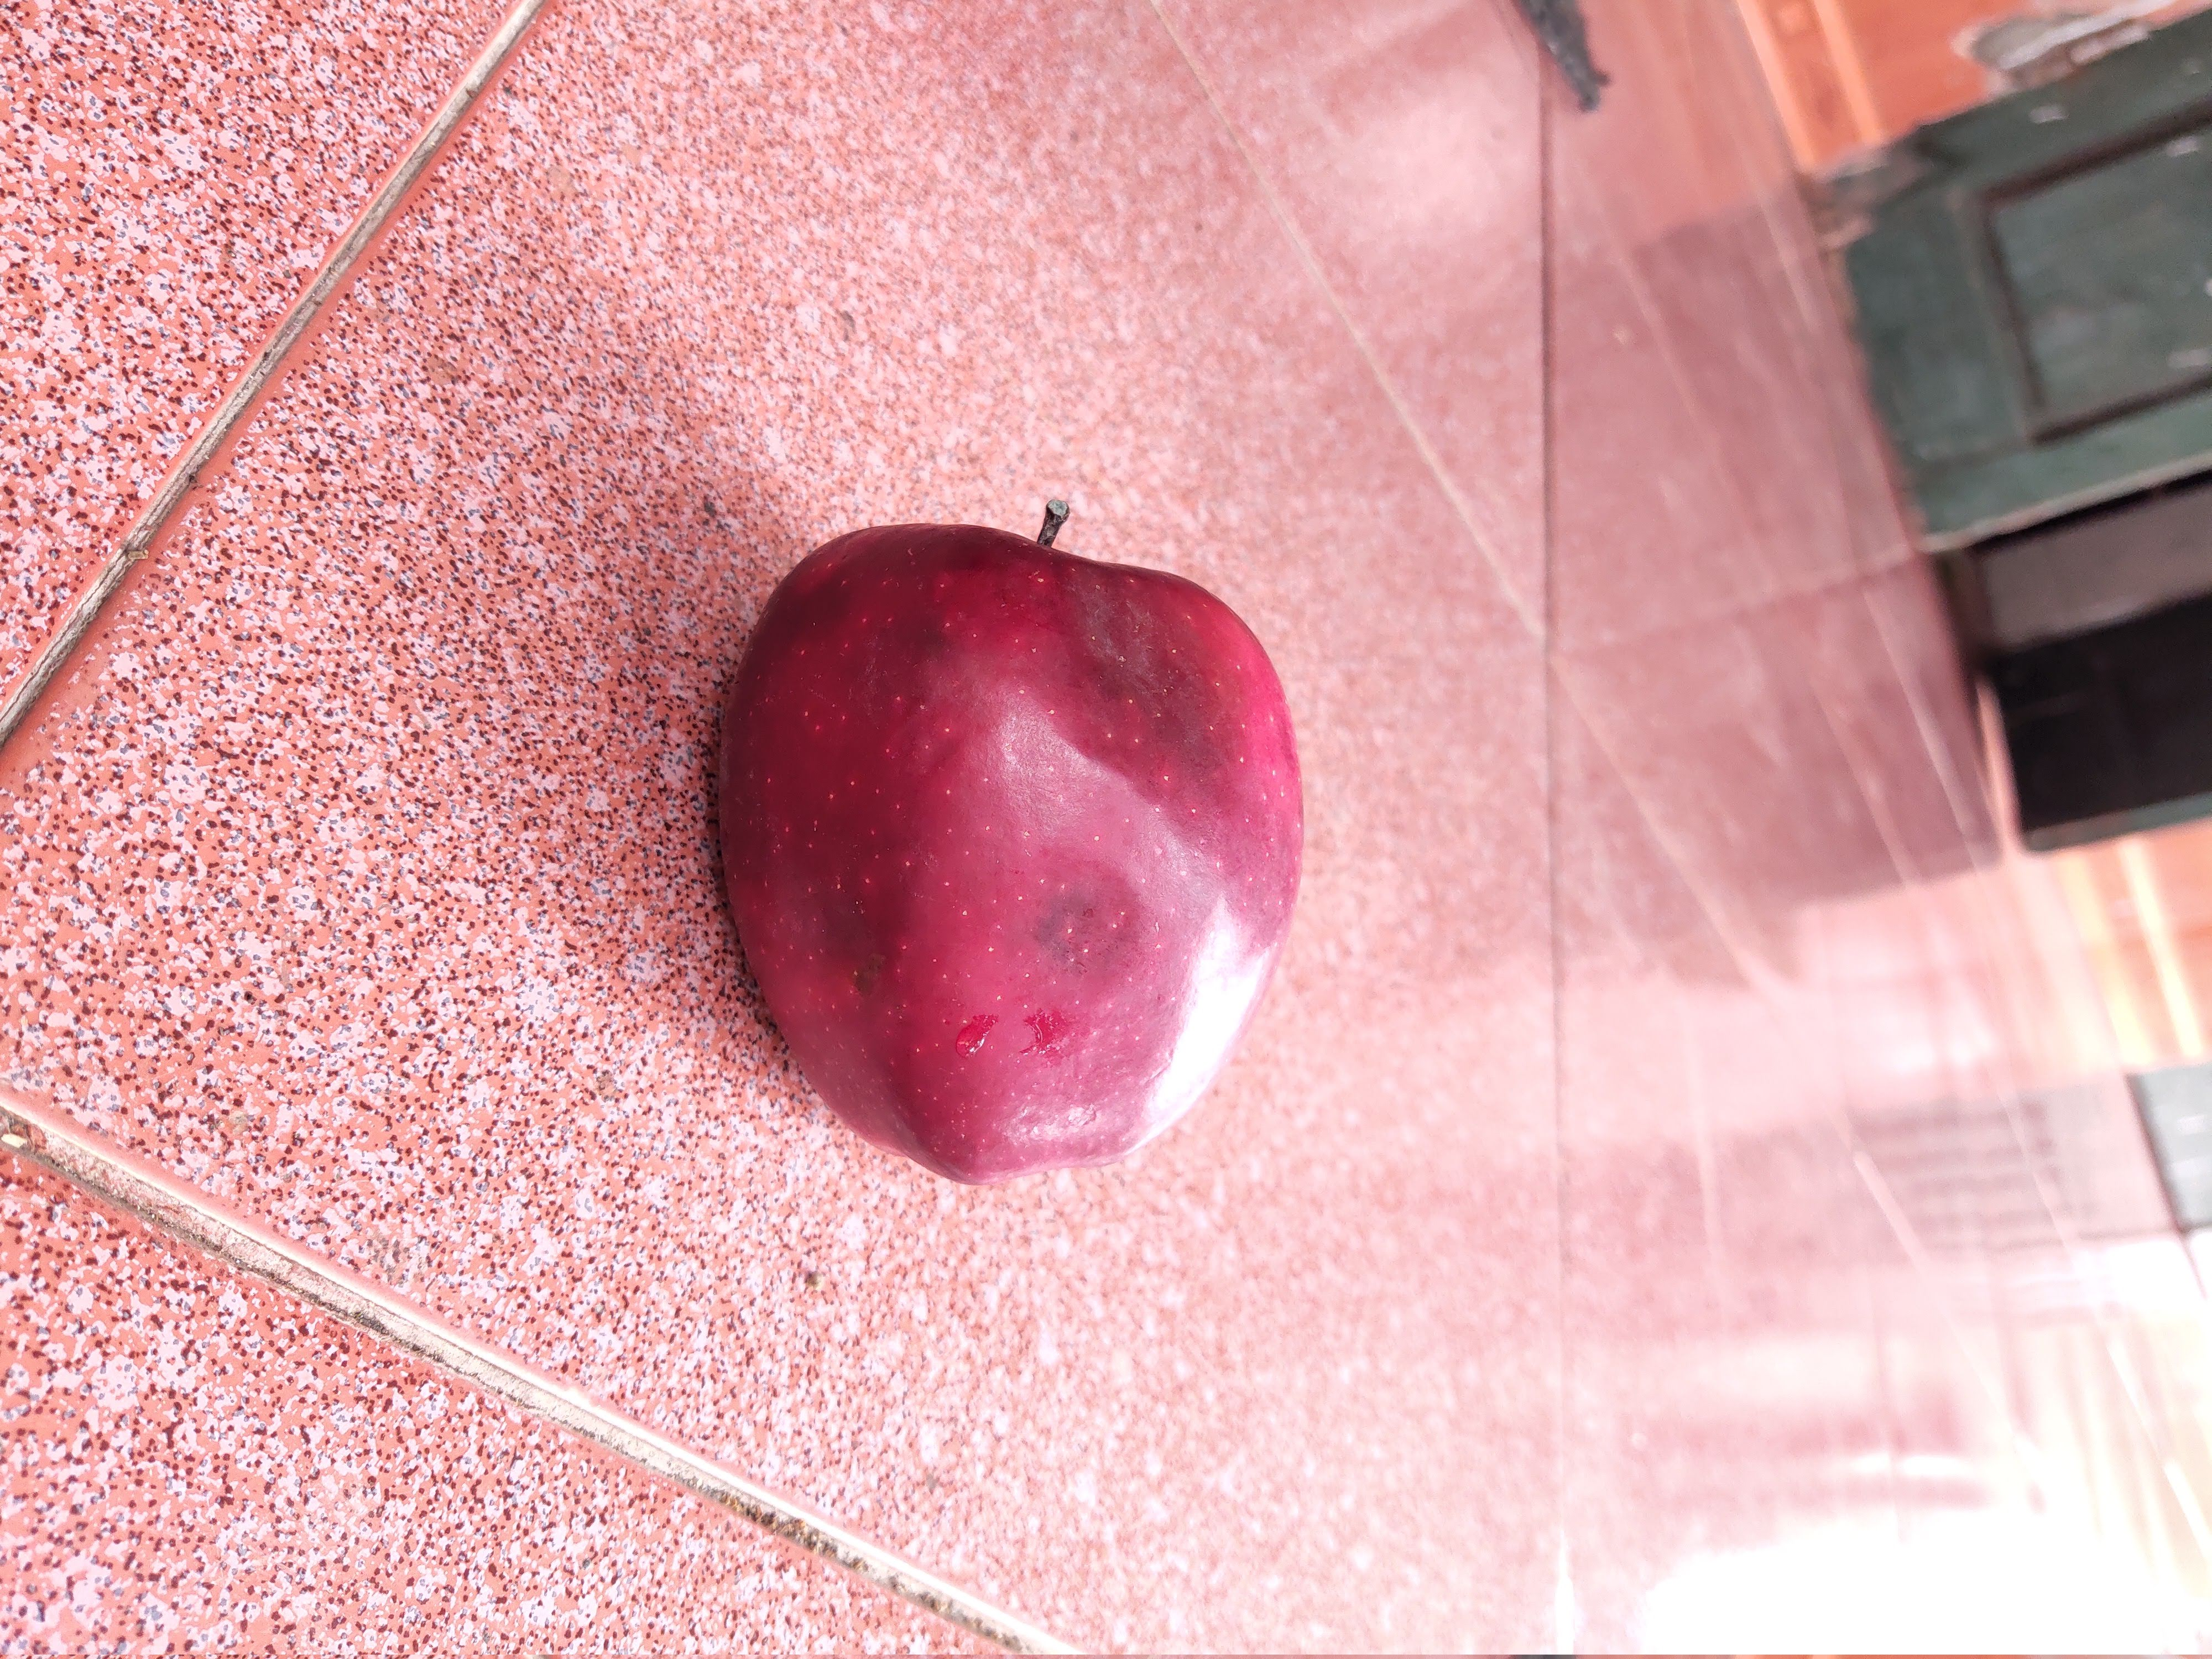apple: (702, 490, 1318, 1188)
